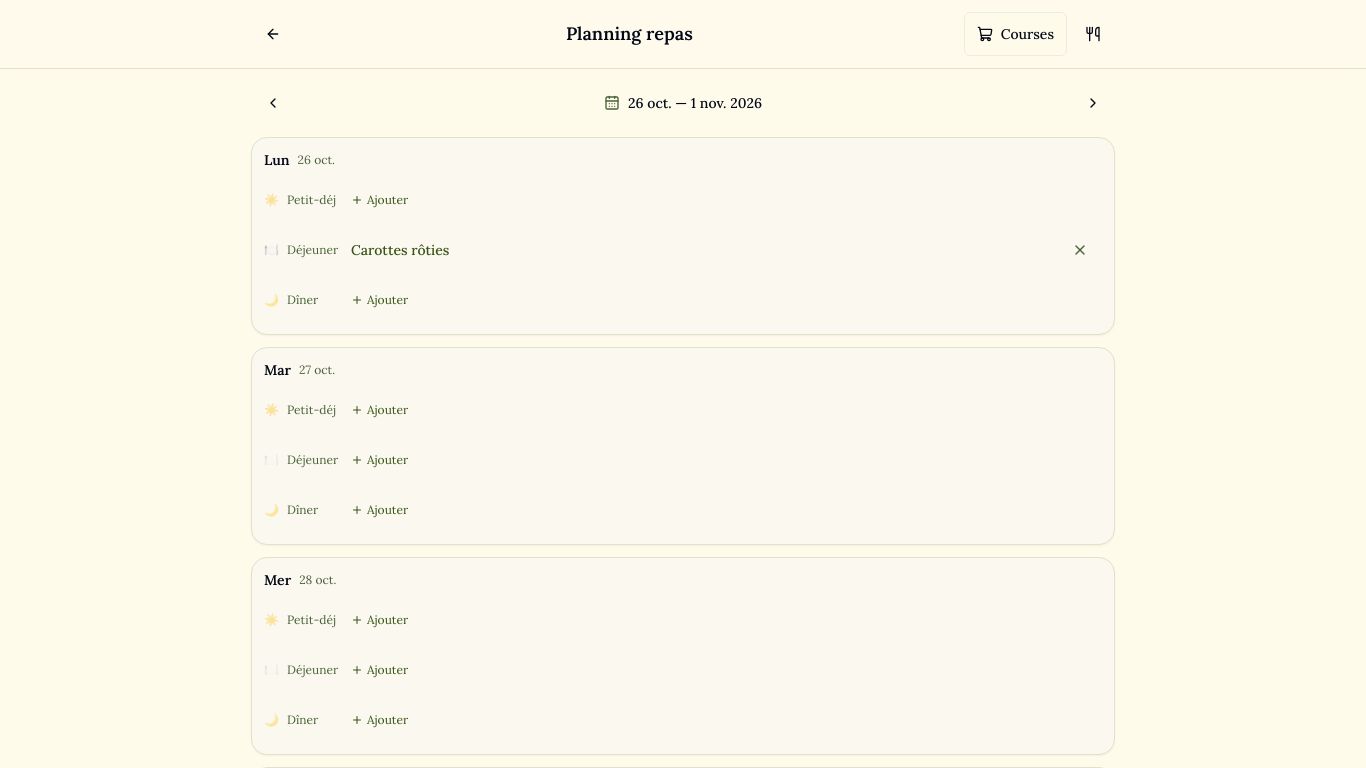
Test: Planning repas — navigation accessible › déplie les ingrédients d’un plat composé dans les courses
Click the button with aria-label "Ouvrir la liste de courses". click: (1015, 34)
box: x1=964 y1=12 x2=1067 y2=56
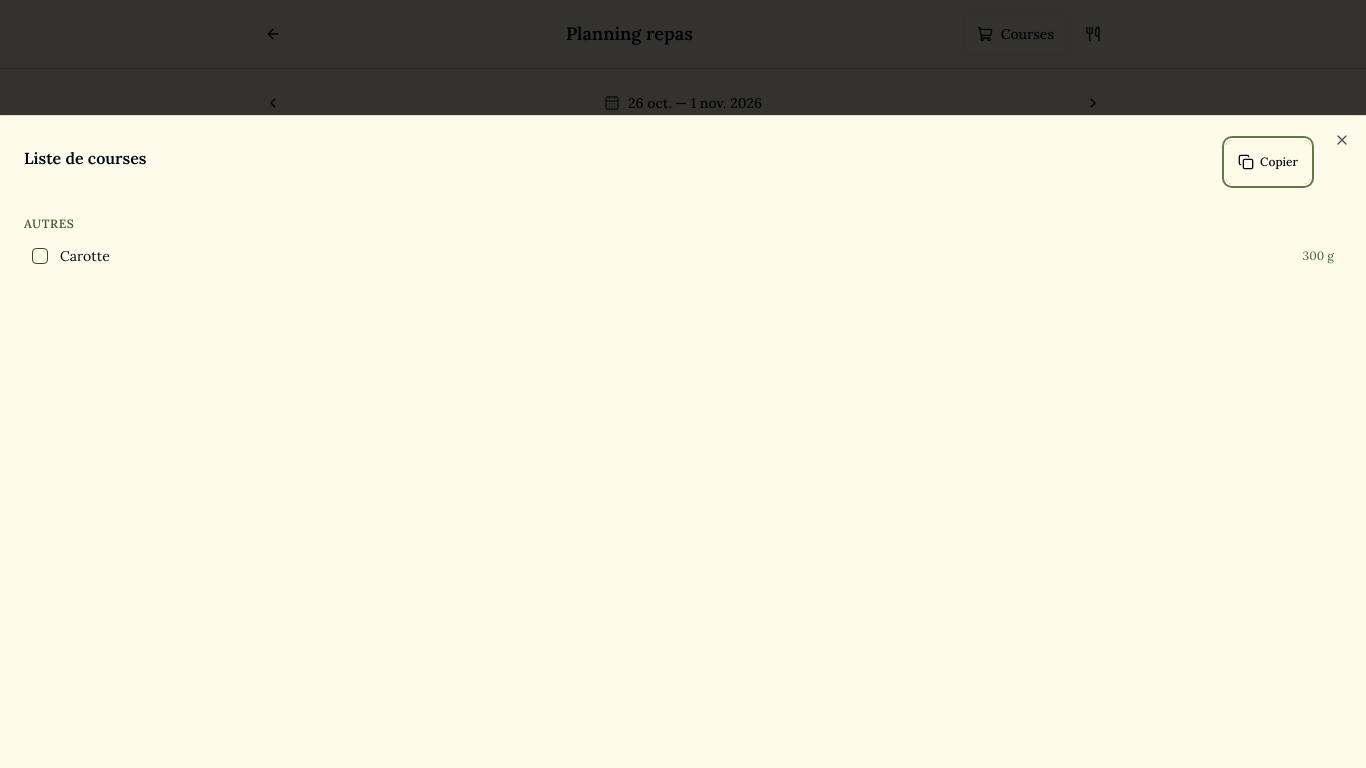
Expected: the text "Carotte" is shown, x1=60 y1=247 x2=110 y2=265
Expected: the text "300 g" is shown, x1=1303 y1=248 x2=1334 y2=264
